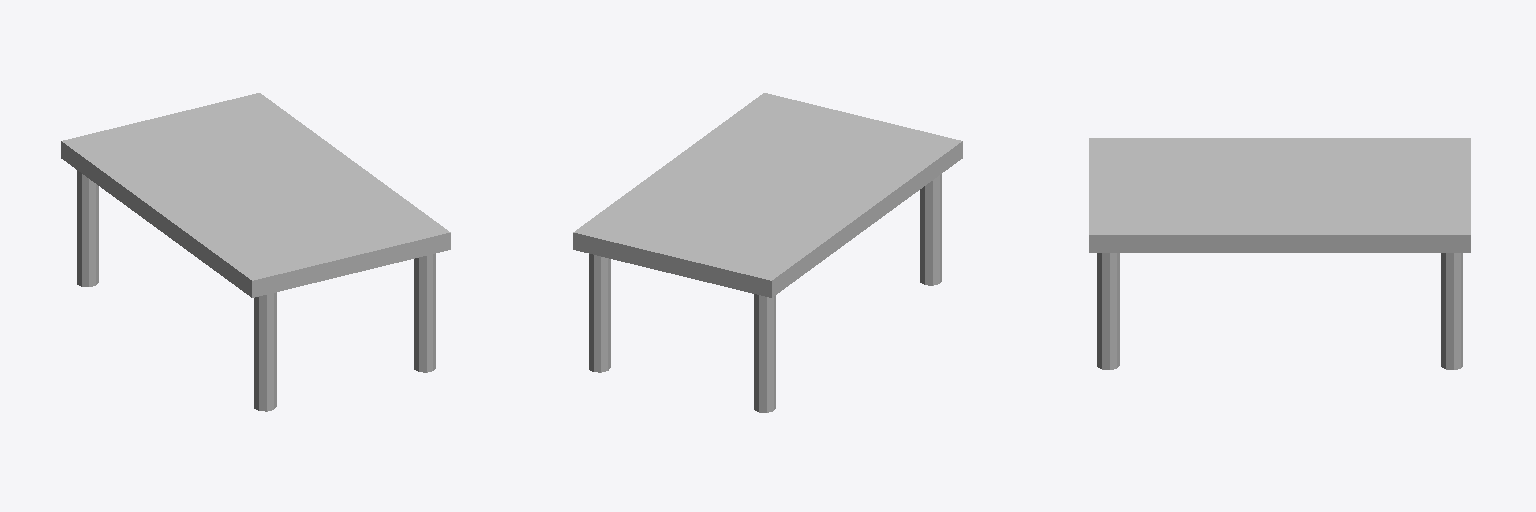
Rendered from Table.obj.
3 renders of one model, left to right at view 1: azimuth 30°, elevation 25°; view 2: azimuth 150°, elevation 25°; view 3: azimuth 270°, elevation 25°, orthographic.
Visible parts, largest first — view 1: Table_Cube.001; view 2: Table_Cube.001; view 3: Table_Cube.001.
Boxes of the visible parts, <box> form: Table_Cube.001: <box>61,93,450,411</box>; Table_Cube.001: <box>573,93,962,412</box>; Table_Cube.001: <box>1089,138,1470,369</box>.
Size of the model in its own units: 0.6 by 0.4 by 1.